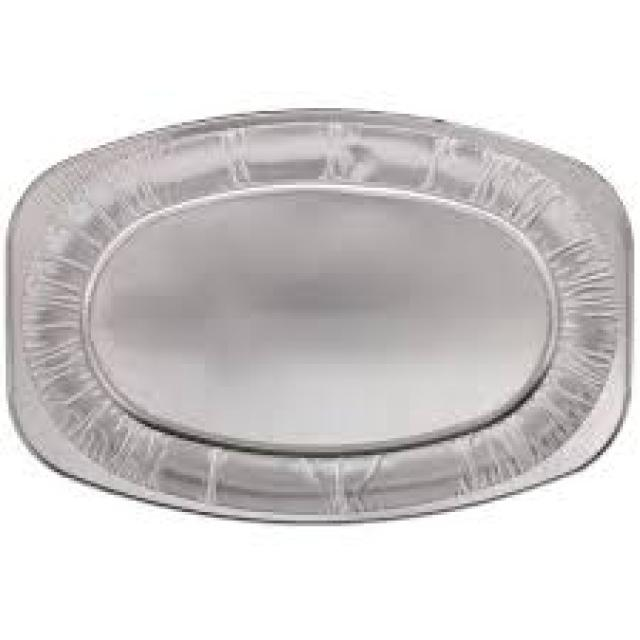metal: (9, 111, 631, 520)
